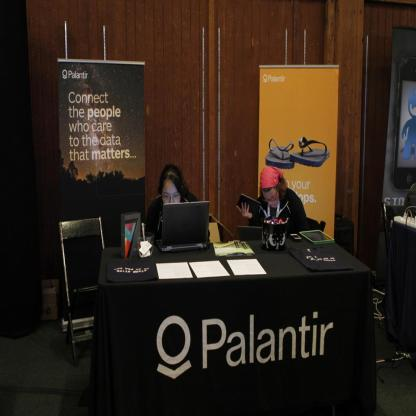board: (154, 200, 212, 256)
